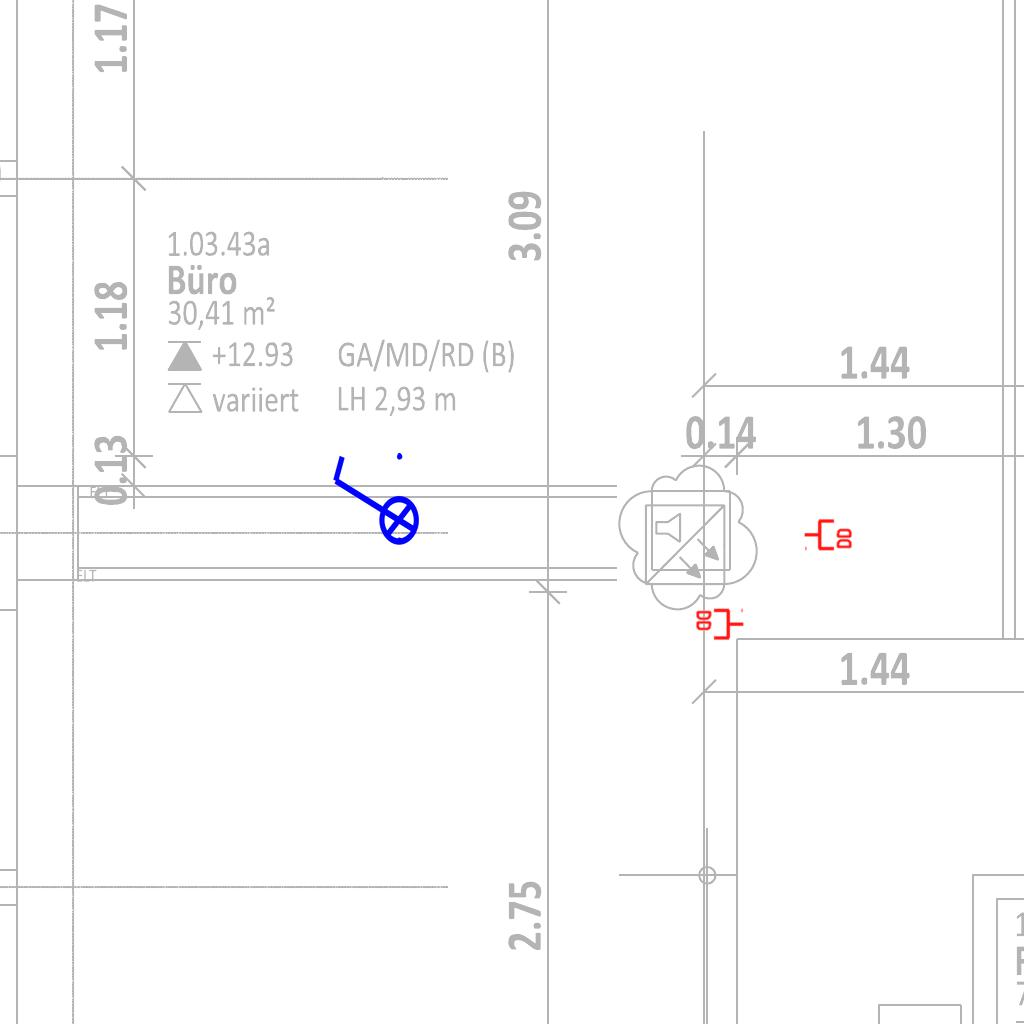Ausschalter_beleuchtet: (325, 447, 421, 559)
Datenanschluss_zweifach: (694, 608, 745, 642), (803, 517, 854, 551)
